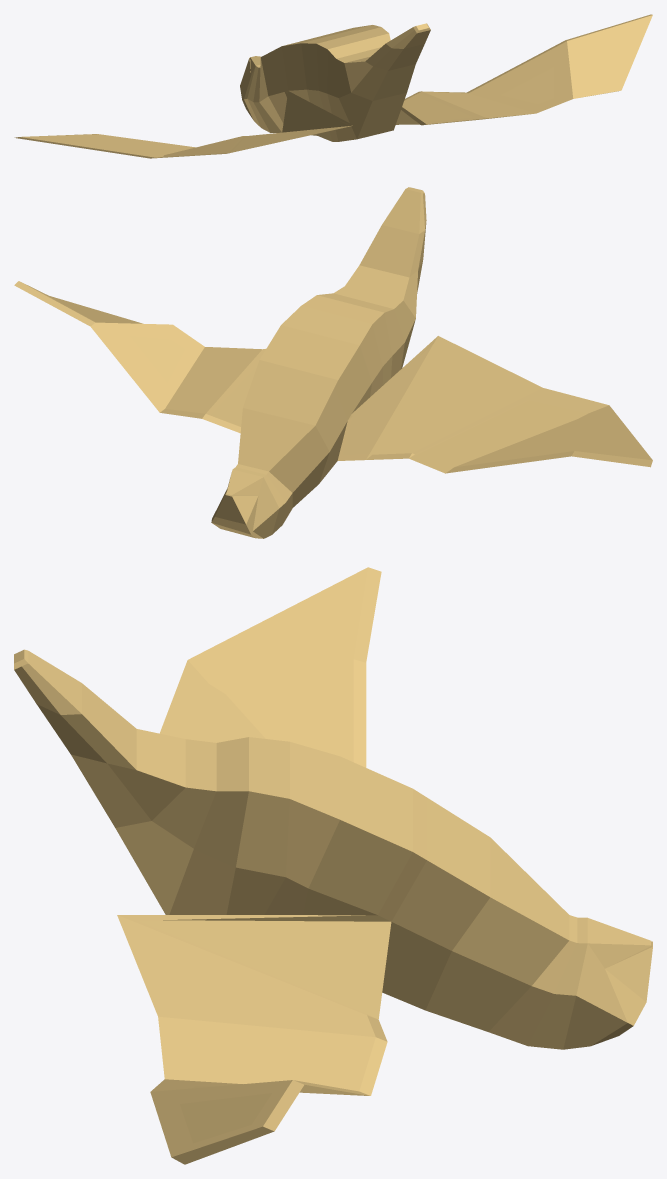
The model's file is bird.fbx.
3 renders of one model, top to bottom at view 1: azimuth 30°, elevation 25°; view 2: azimuth 150°, elevation 25°; view 3: azimuth 270°, elevation 25°, orthographic. The views are drawn at different scales.
Visible parts, largest first — view 1: Cube; view 2: Cube; view 3: Cube.
Part boxes in pixels (x1=…): Cube: x1=14, y1=14, x2=652, y2=158; Cube: x1=14, y1=187, x2=652, y2=538; Cube: x1=14, y1=567, x2=652, y2=1164.
Bounding box in the file's own units: 4314 × 1393 × 2109.
